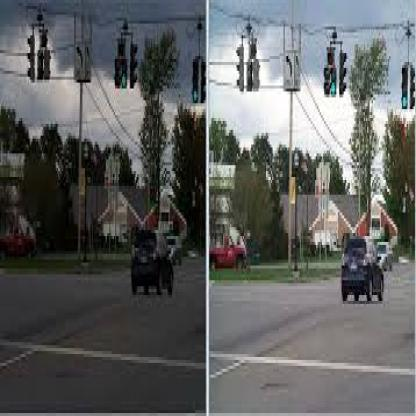car: (333, 221, 385, 320), (126, 213, 180, 305), (212, 204, 253, 298)
